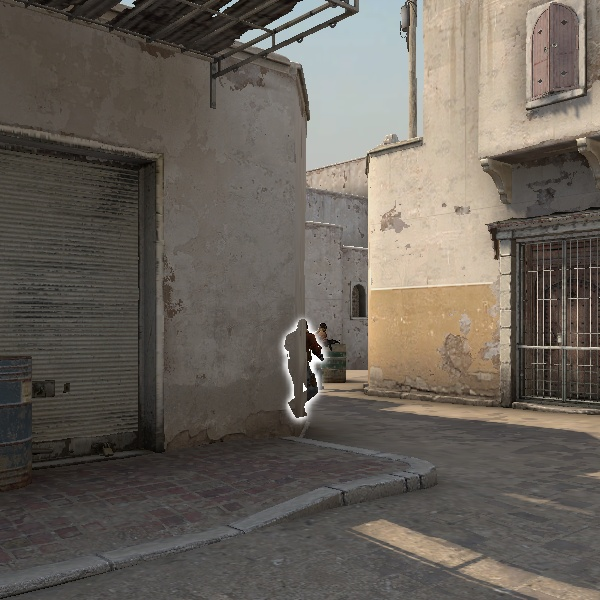t_body: (279, 313, 340, 422)
t_head: (314, 318, 332, 336)
